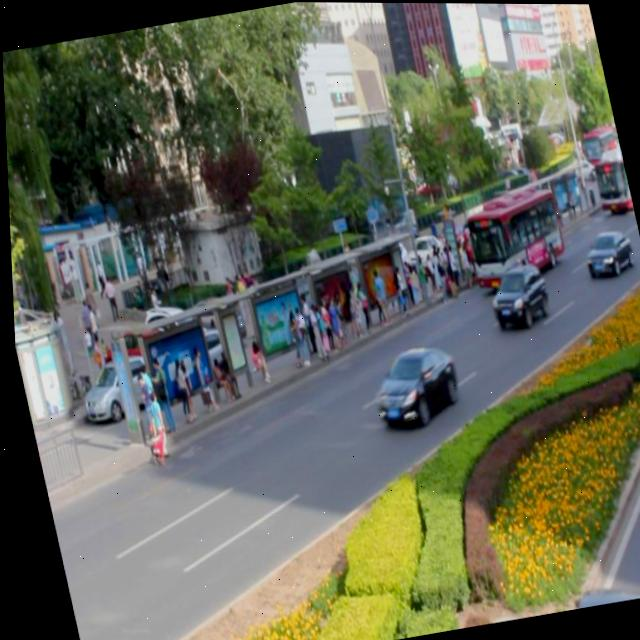car: (362, 339, 460, 430), (480, 259, 548, 328), (577, 224, 633, 278)
van: (451, 184, 564, 297)
